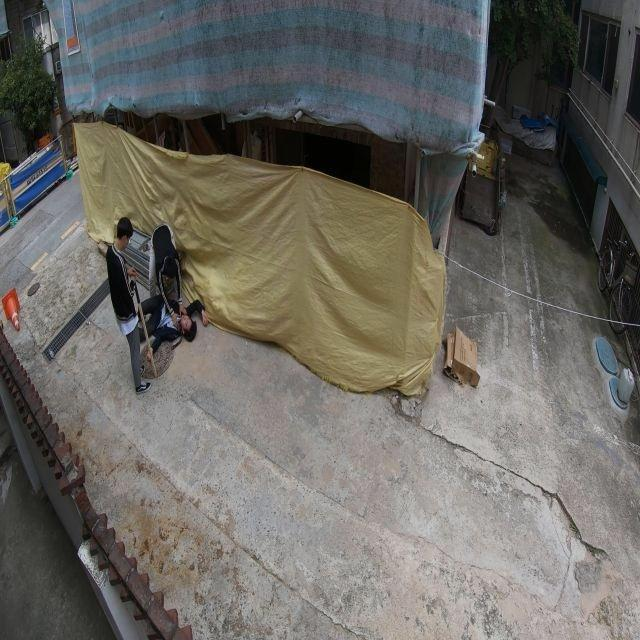fight: (137, 223, 210, 363), (104, 214, 159, 394)
